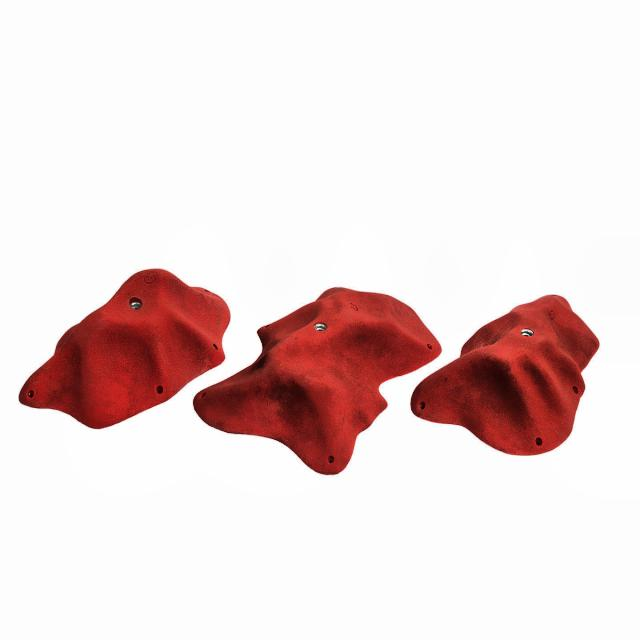Hold: (163, 271, 467, 490), (7, 258, 240, 444), (406, 276, 613, 476)
